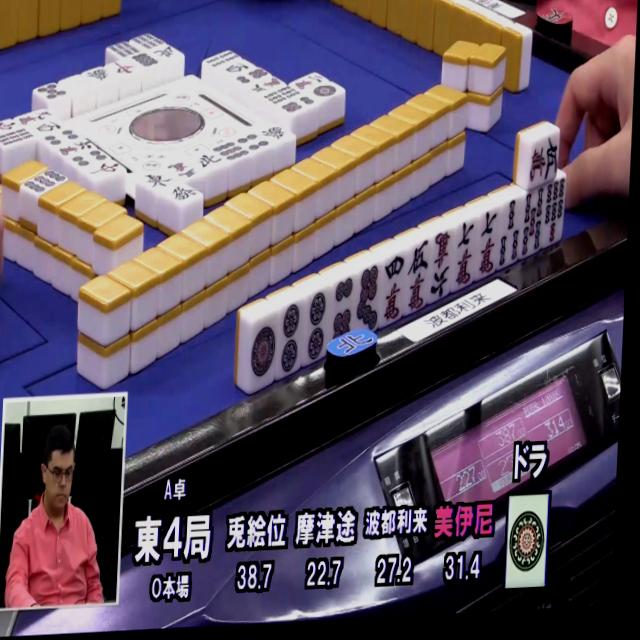m4: (378, 252, 408, 326)
m5: (403, 239, 433, 313), (528, 131, 560, 183)
m6: (427, 228, 457, 301)
m7: (451, 218, 480, 290), (475, 207, 503, 280)
s3: (499, 196, 525, 268)
s5: (519, 184, 546, 259)
s7: (542, 174, 567, 249)
t1: (504, 493, 553, 588), (244, 313, 281, 388)
t2: (274, 300, 306, 379), (302, 289, 334, 366)
t6: (327, 276, 358, 341)
t7: (352, 263, 383, 333)
